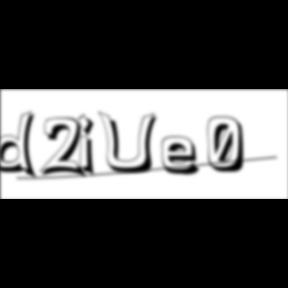0: (208, 115, 252, 174)
2: (40, 117, 90, 181)
U: (98, 110, 164, 176)
d: (1, 110, 44, 182)
e: (161, 135, 207, 178)
i: (78, 112, 102, 180)
